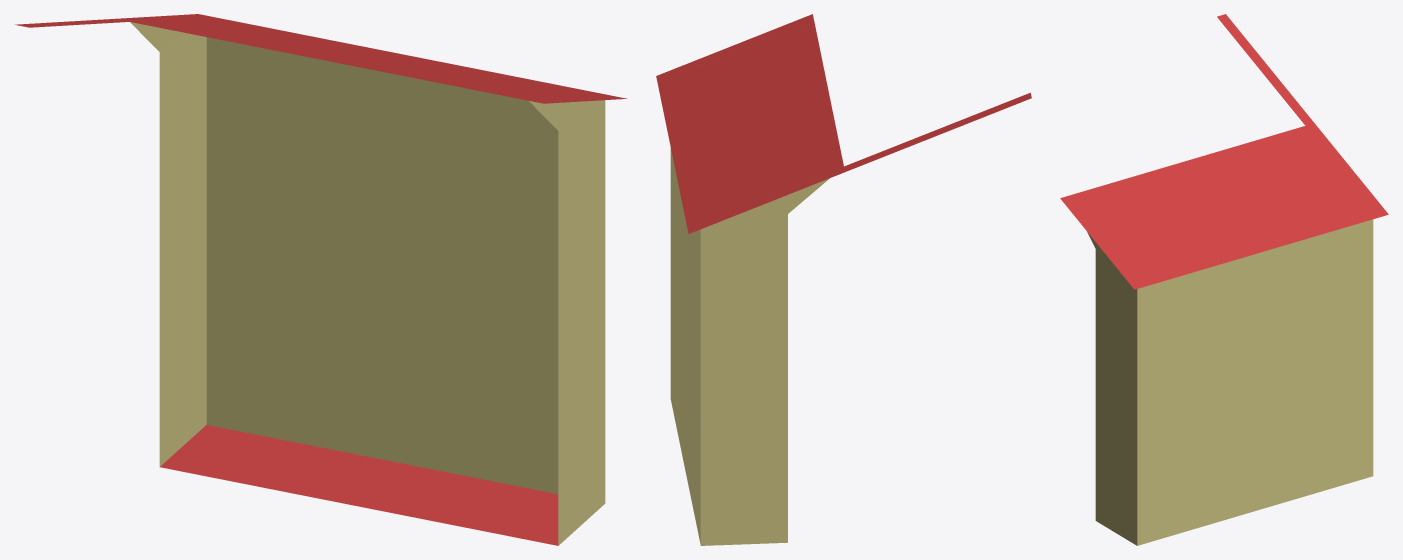
The picture shows the model from 3 angles, left to right: view 1: azimuth 30°, elevation 25°; view 2: azimuth 150°, elevation 25°; view 3: azimuth 270°, elevation 25°; orthographic projection. The views are drawn at different scales.
Bounding box in the file's own units: 9.23 × 7.38 × 9.04.
